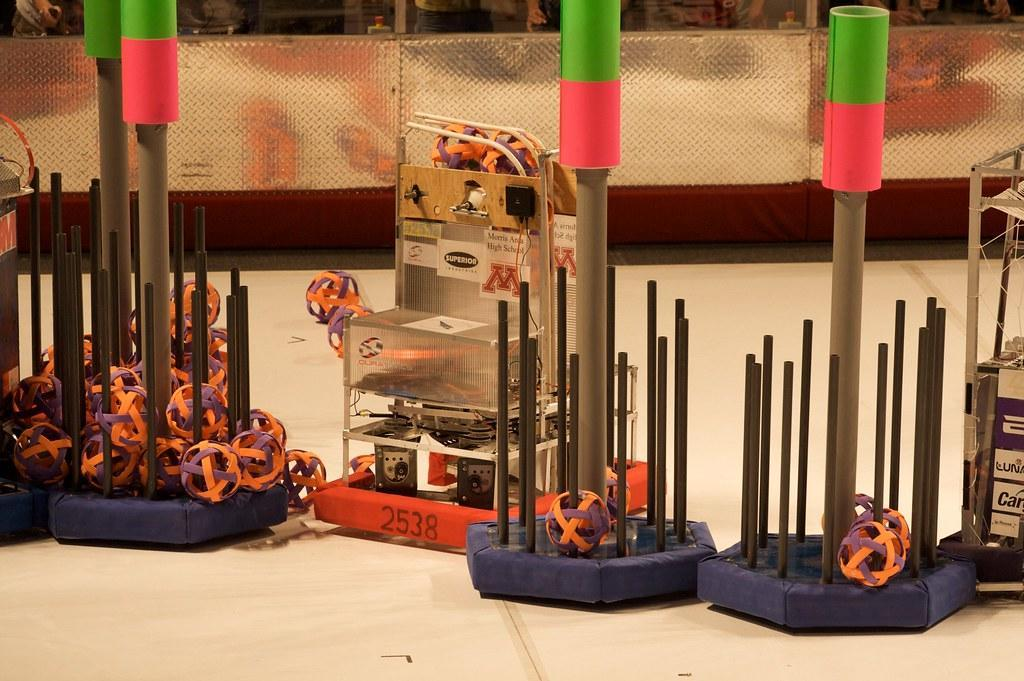robot: (307, 100, 669, 557)
